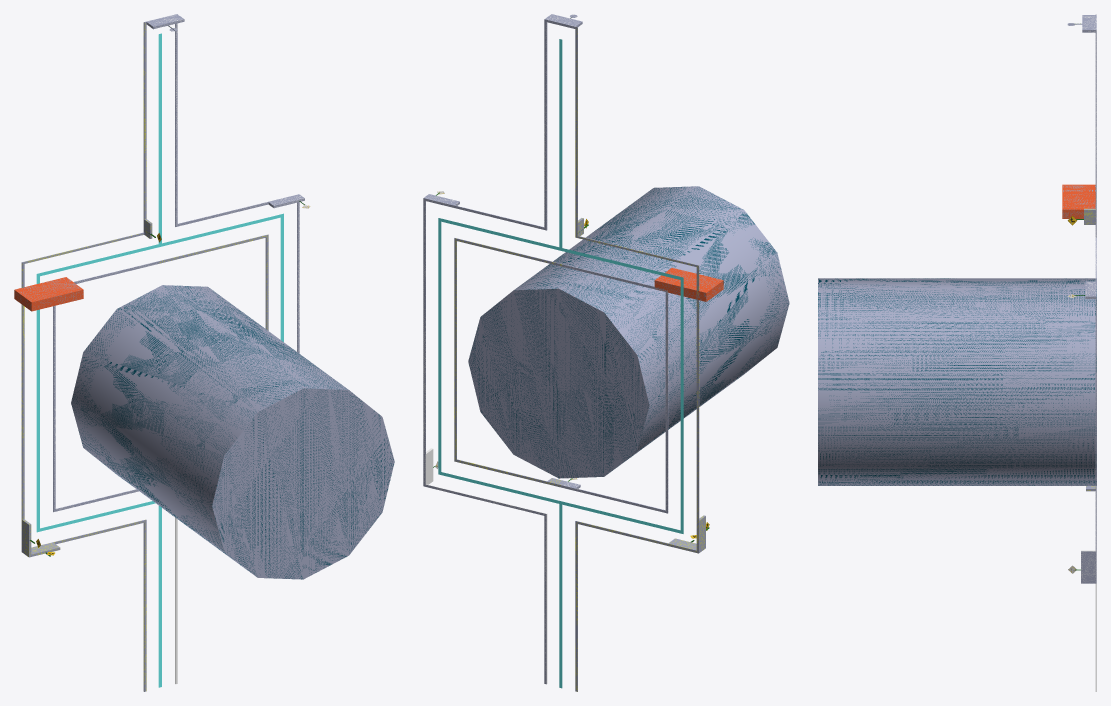
The model's file is map.obj.
The picture shows the model from 3 angles, left to right: view 1: azimuth 30°, elevation 25°; view 2: azimuth 150°, elevation 25°; view 3: azimuth 270°, elevation 25°; orthographic projection.
Parts seen in each view (by area): view 1: Mesh19 Model, Mesh21 Model, Mesh22 Model, Mesh20 Model, Mesh1 Group1 Model; view 2: Mesh19 Model, Mesh21 Model, Mesh22 Model, Mesh20 Model, Mesh1 Group1 Model; view 3: Mesh19 Model, Mesh21 Model, Mesh1 Group1 Model.
Part boxes in pixels (x1,y1,x2,y2): Mesh19 Model: (71, 285, 394, 579); Mesh21 Model: (21, 14, 304, 691); Mesh22 Model: (36, 33, 283, 687); Mesh20 Model: (53, 234, 268, 512); Mesh1 Group1 Model: (14, 277, 83, 311); Mesh19 Model: (468, 186, 789, 478); Mesh21 Model: (423, 14, 705, 691); Mesh22 Model: (438, 39, 683, 688); Mesh20 Model: (454, 238, 668, 513); Mesh1 Group1 Model: (654, 268, 723, 301); Mesh19 Model: (818, 278, 1096, 485); Mesh21 Model: (1081, 14, 1096, 691); Mesh1 Group1 Model: (1062, 184, 1095, 218).
Bounding box in the file's own units: 7.49 × 16.81 × 6.42.
Materials: 15 (4 with a texture image).
